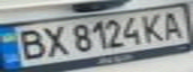1: (90, 18, 109, 51)
2: (103, 16, 127, 48)
4: (121, 13, 145, 46)
8: (69, 20, 93, 53)
A: (157, 8, 190, 41)
B: (9, 26, 48, 61)
K: (139, 11, 169, 43)
X: (36, 24, 69, 57)
